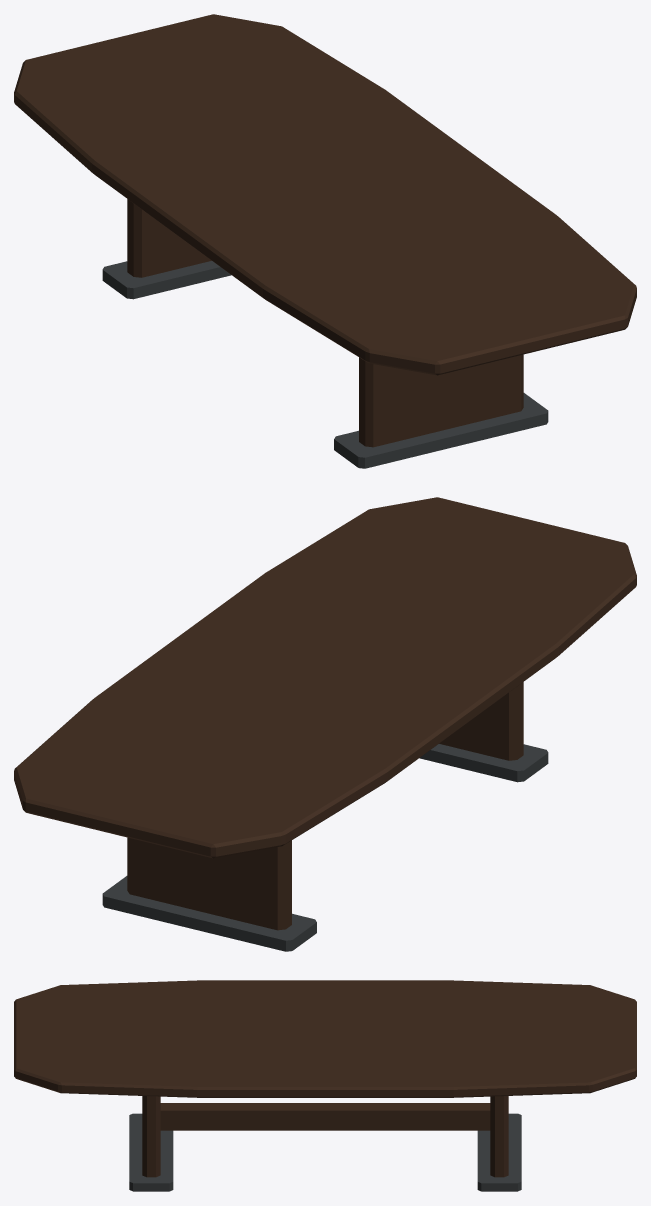
Rendered from table_conference.glb.
The picture shows the model from 3 angles, top to bottom: view 1: azimuth 30°, elevation 25°; view 2: azimuth 150°, elevation 25°; view 3: azimuth 270°, elevation 25°; orthographic projection. The views are drawn at different scales.
Parts seen in each view (by area): view 1: Tablero barco, Pata panel, Zócalo, Pata panel.001, Zócalo.001; view 2: Tablero barco, Pata panel.001, Zócalo.001, Pata panel, Zócalo; view 3: Tablero barco, Travesaño, Zócalo, Zócalo.001, Pata panel, Pata panel.001.
Part boxes in pixels (x1=…): Tablero barco: x1=14, y1=14, x2=636, y2=375; Pata panel: x1=359, y1=354, x2=523, y2=447; Zócalo: x1=334, y1=393, x2=548, y2=468; Pata panel.001: x1=127, y1=199, x2=211, y2=277; Zócalo.001: x1=102, y1=261, x2=231, y2=299; Tablero barco: x1=14, y1=497, x2=636, y2=858; Pata panel.001: x1=127, y1=837, x2=291, y2=930; Zócalo.001: x1=102, y1=876, x2=316, y2=951; Pata panel: x1=439, y1=682, x2=523, y2=760; Zócalo: x1=419, y1=744, x2=548, y2=782; Tablero barco: x1=14, y1=980, x2=636, y2=1097; Travesaño: x1=160, y1=1103, x2=490, y2=1130; Zócalo: x1=129, y1=1113, x2=173, y2=1191; Zócalo.001: x1=477, y1=1113, x2=521, y2=1191; Pata panel: x1=142, y1=1096, x2=160, y2=1177; Pata panel.001: x1=490, y1=1096, x2=508, y2=1177.
Size of the model in its own units: 1.4 by 0.74 by 3.4.
